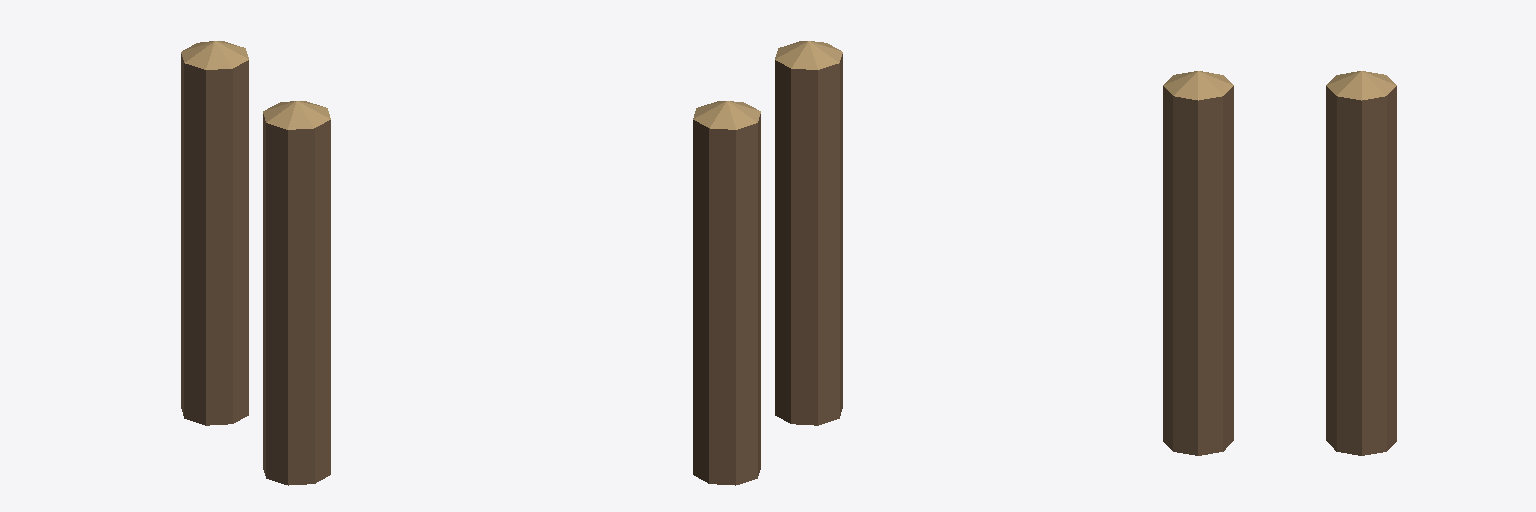
File: Beach_Prop_Docks_Straight_Supports.obj
3 views of the same model, side by side, from view 1: azimuth 30°, elevation 25°; view 2: azimuth 150°, elevation 25°; view 3: azimuth 270°, elevation 25° (orthographic).
Visible parts, largest first — view 1: object1, object2; view 2: object2, object1; view 3: object1, object2.
Boxes of the visible parts, x1,y1,x2,y2 form: object1: [181, 41, 248, 425]; object2: [263, 101, 330, 485]; object2: [775, 41, 842, 425]; object1: [693, 101, 760, 485]; object1: [1326, 71, 1396, 455]; object2: [1163, 71, 1233, 455].
Bounding box in the file's own units: 0.2165 × 1.25 × 0.7165.